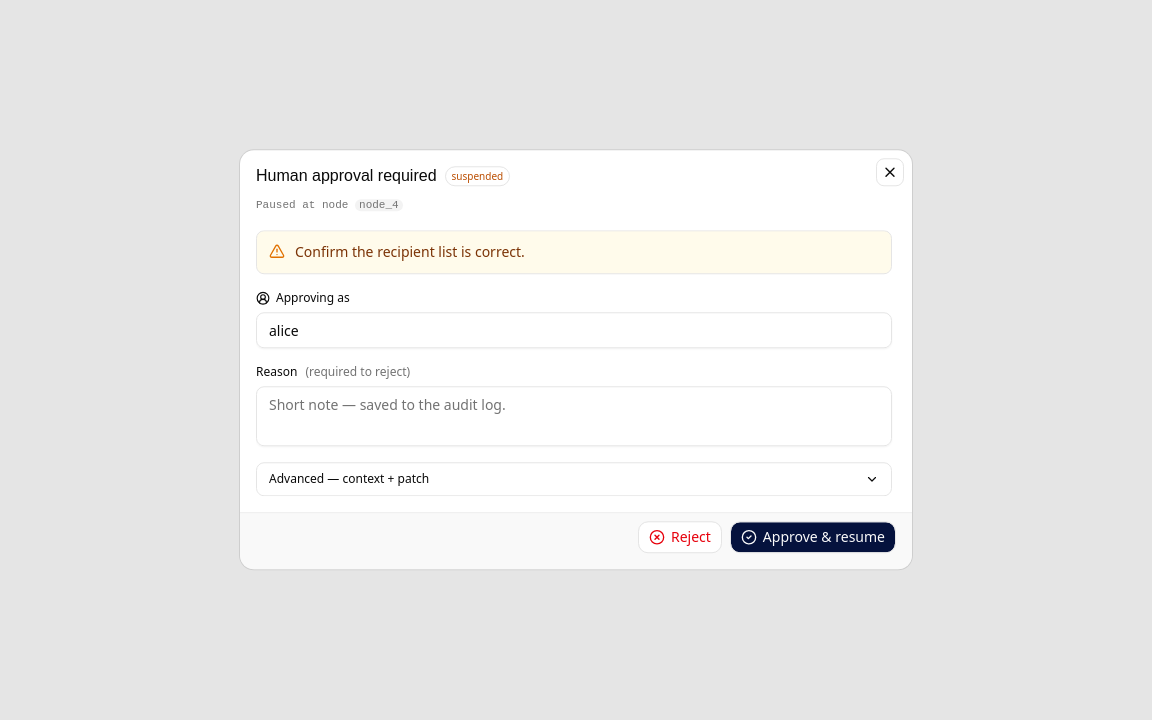
it: HITLResumeDialog › blocks reject without a reason + inline error
Click the button "Reject" at x=680, y=538, box [638, 522, 722, 554]
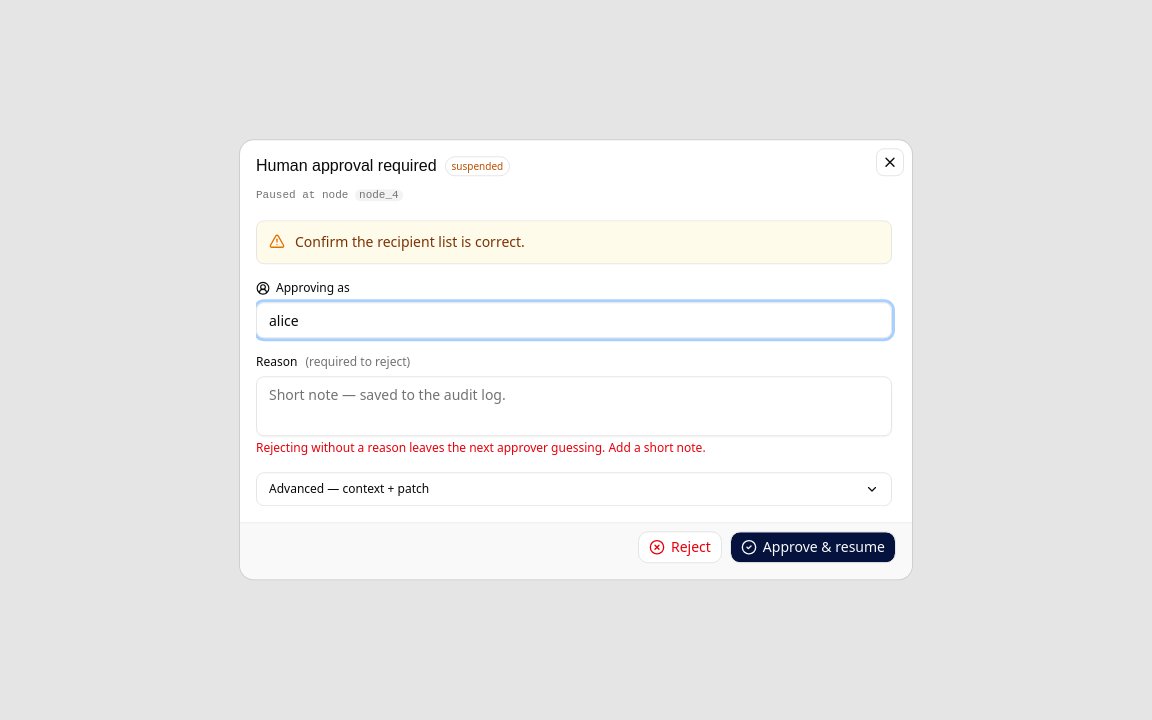
Now the text "leaves the next approver guessing" is shown, box [256, 440, 706, 457]
